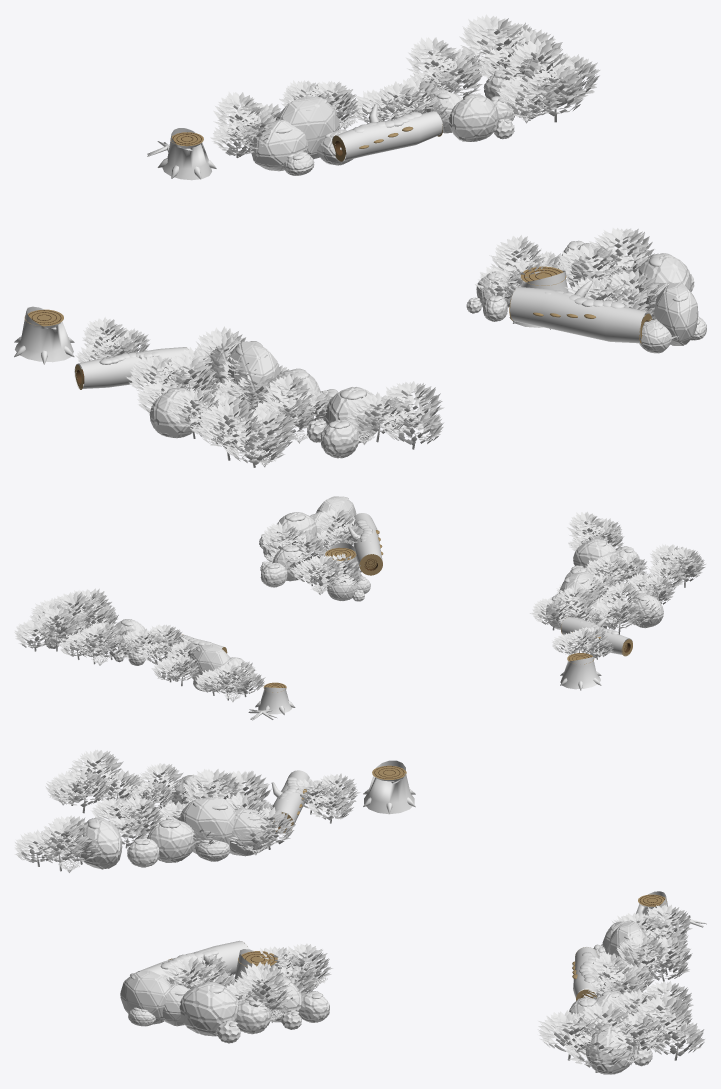
File: SM_DF_Nature_0_3_Macro.fbx
3 views of the same model, one above another, from view 1: azimuth 30°, elevation 25°; view 2: azimuth 150°, elevation 25°; view 3: azimuth 270°, elevation 25° (orthographic). The views are drawn at different scales.
Visible parts, largest first — view 1: SM_DF_Nature_0_3_Macro; view 2: SM_DF_Nature_0_3_Macro; view 3: SM_DF_Nature_0_3_Macro.
Part boxes in pixels (bbox=[...]): SM_DF_Nature_0_3_Macro: bbox=[14, 14, 706, 467]; SM_DF_Nature_0_3_Macro: bbox=[14, 496, 705, 720]; SM_DF_Nature_0_3_Macro: bbox=[14, 749, 706, 1074].
Bounding box in the file's own units: 3028 × 2950 × 354.
